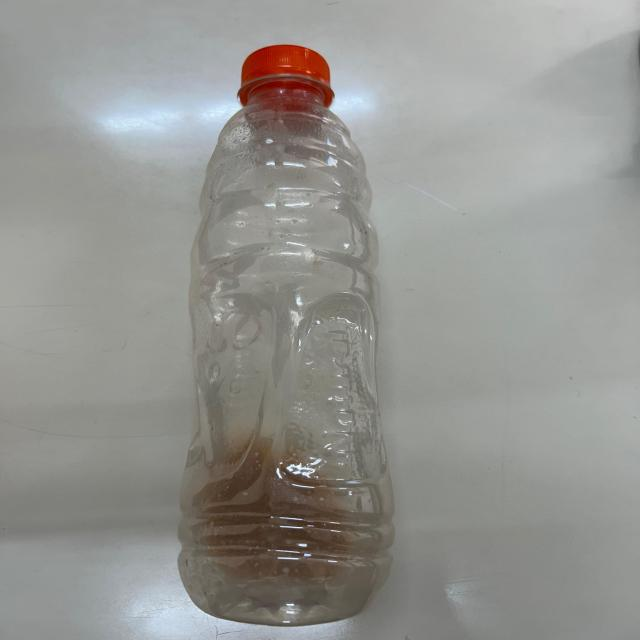inorganic: (172, 44, 394, 627)
